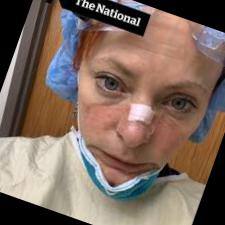mask_weared_incorrect: (53, 49, 209, 211)
